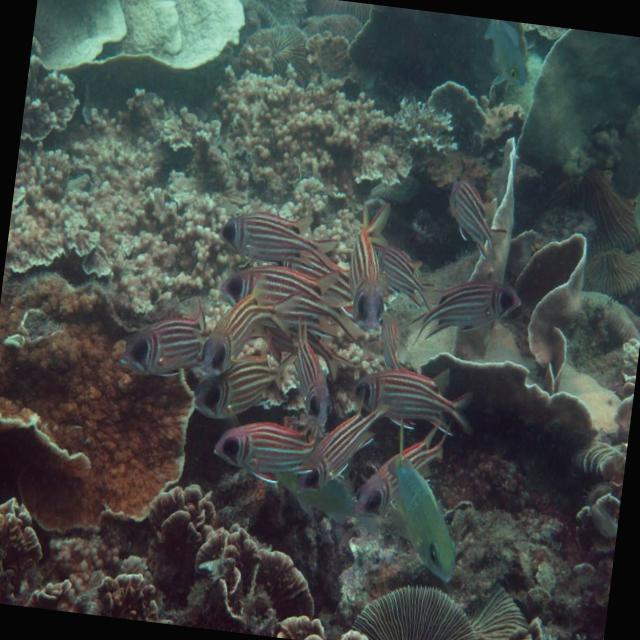Asker Baligi: (403, 268, 532, 350), (215, 258, 343, 334), (348, 369, 482, 438), (111, 298, 218, 382), (300, 405, 390, 503), (207, 416, 320, 494), (334, 208, 394, 341), (269, 330, 351, 426), (186, 352, 288, 429), (436, 162, 506, 268), (212, 200, 330, 260), (370, 238, 440, 316)
